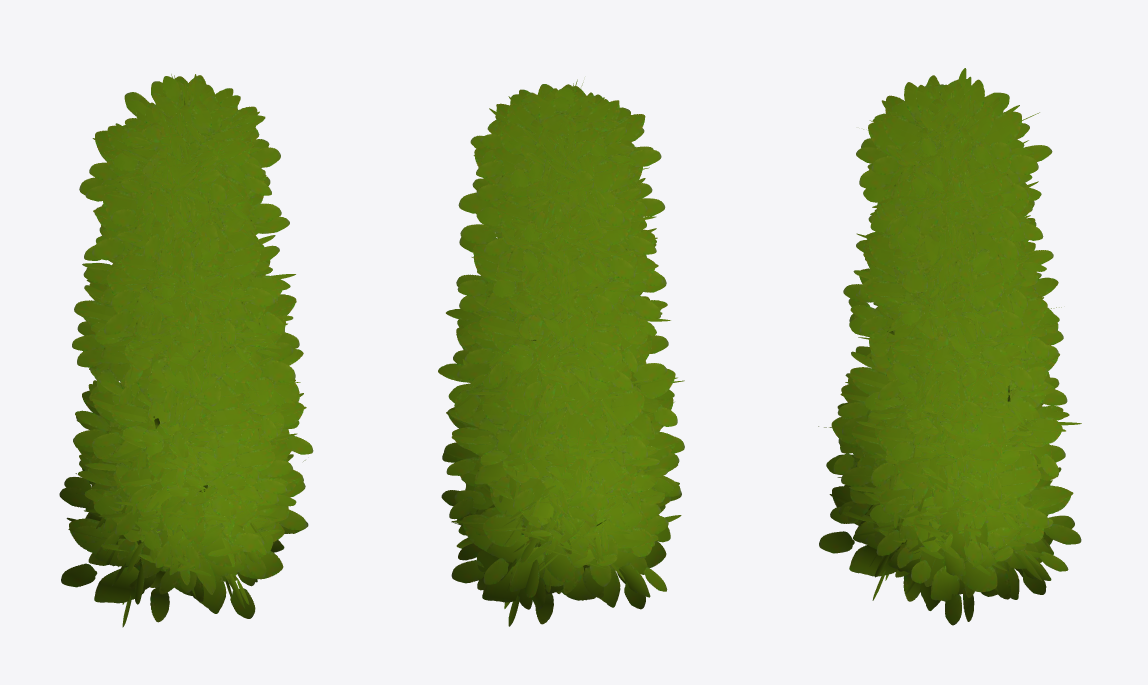
Rendered from bush-4.glb.
The picture shows the model from 3 angles, left to right: view 1: azimuth 30°, elevation 25°; view 2: azimuth 150°, elevation 25°; view 3: azimuth 270°, elevation 25°; orthographic projection.
Visible parts, largest first — view 1: Bush_Long_2; view 2: Bush_Long_2; view 3: Bush_Long_2.
Boxes of the visible parts, x1,y1,x2,y2 form: Bush_Long_2: (59, 74, 313, 627); Bush_Long_2: (438, 79, 684, 626); Bush_Long_2: (818, 68, 1081, 625).
Size of the model in its own units: 0.3609 by 0.7 by 0.3783.
1 material, 1 textured.
